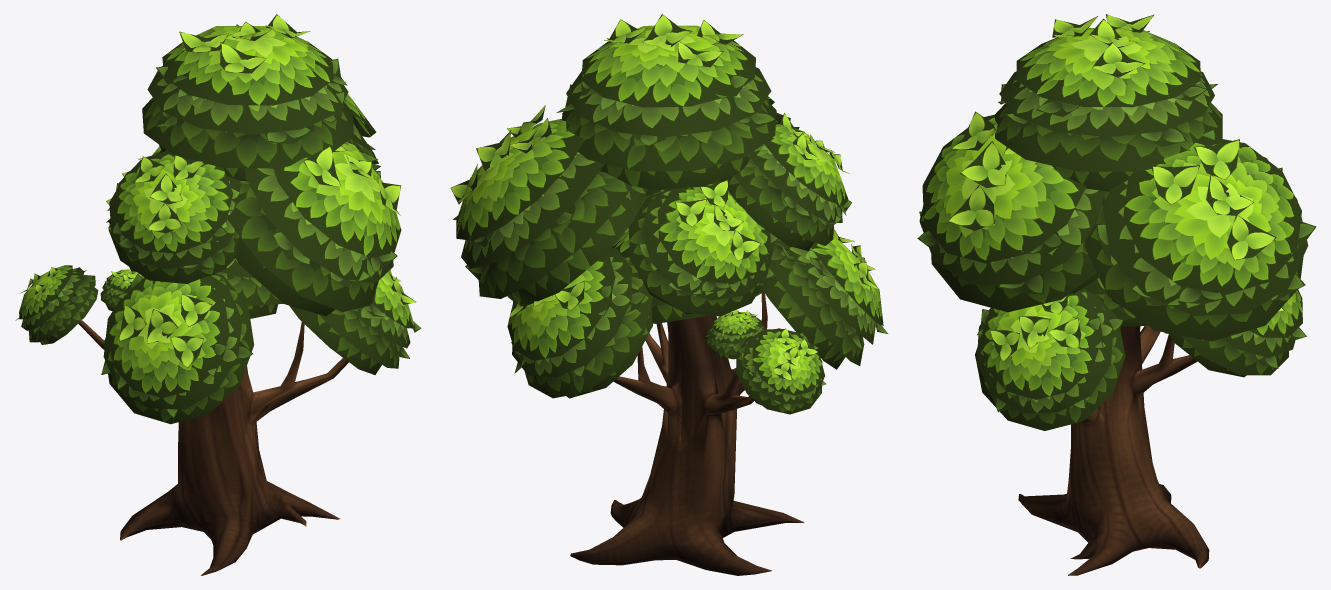
The model's file is tree003.fbx.
3 views of the same model, side by side, from view 1: azimuth 30°, elevation 25°; view 2: azimuth 150°, elevation 25°; view 3: azimuth 270°, elevation 25° (orthographic). The views are drawn at different scales.
Parts seen in each view (by area): view 1: Tree03; view 2: Tree03; view 3: Tree03.
Part boxes in pixels (x1,y1,x2,y2): Tree03: (15, 14, 421, 575); Tree03: (450, 14, 887, 575); Tree03: (917, 14, 1316, 575).
Size of the model in its own units: 1326 by 1826 by 1278.
